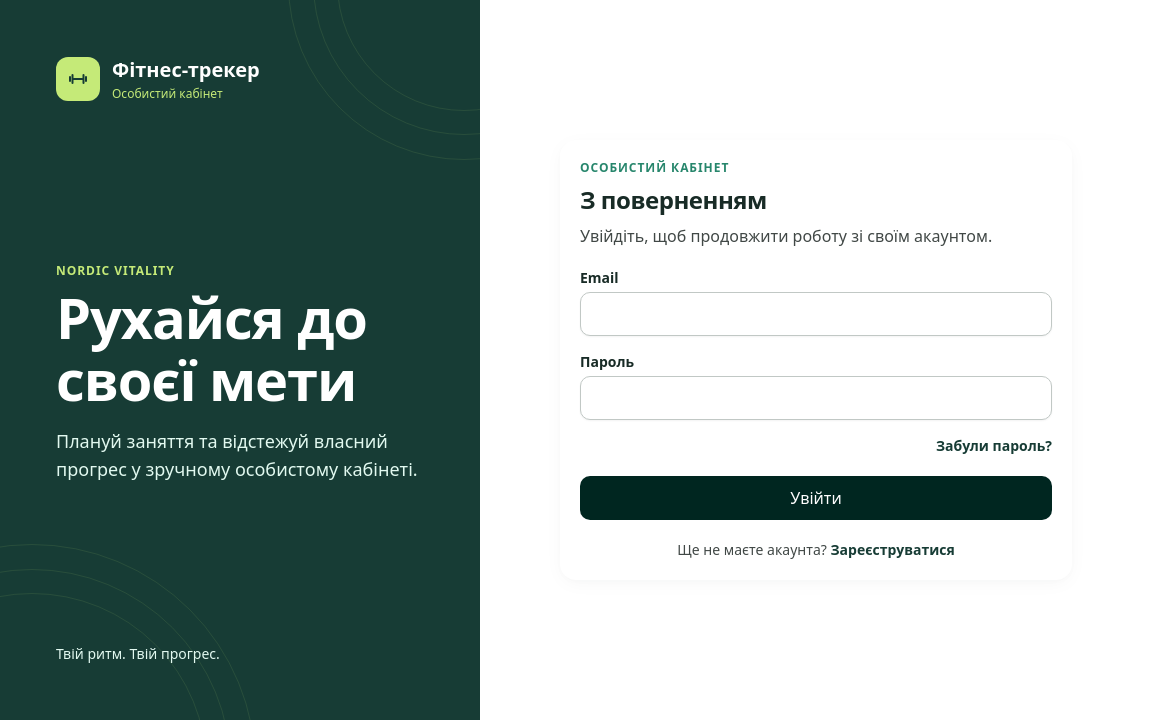
Test: guest sees validation before requests
Expected: the button "Увійти" is shown, [580, 476, 1052, 520]
Click the link "Зареєструватися": (893, 550) [830, 540, 955, 559]
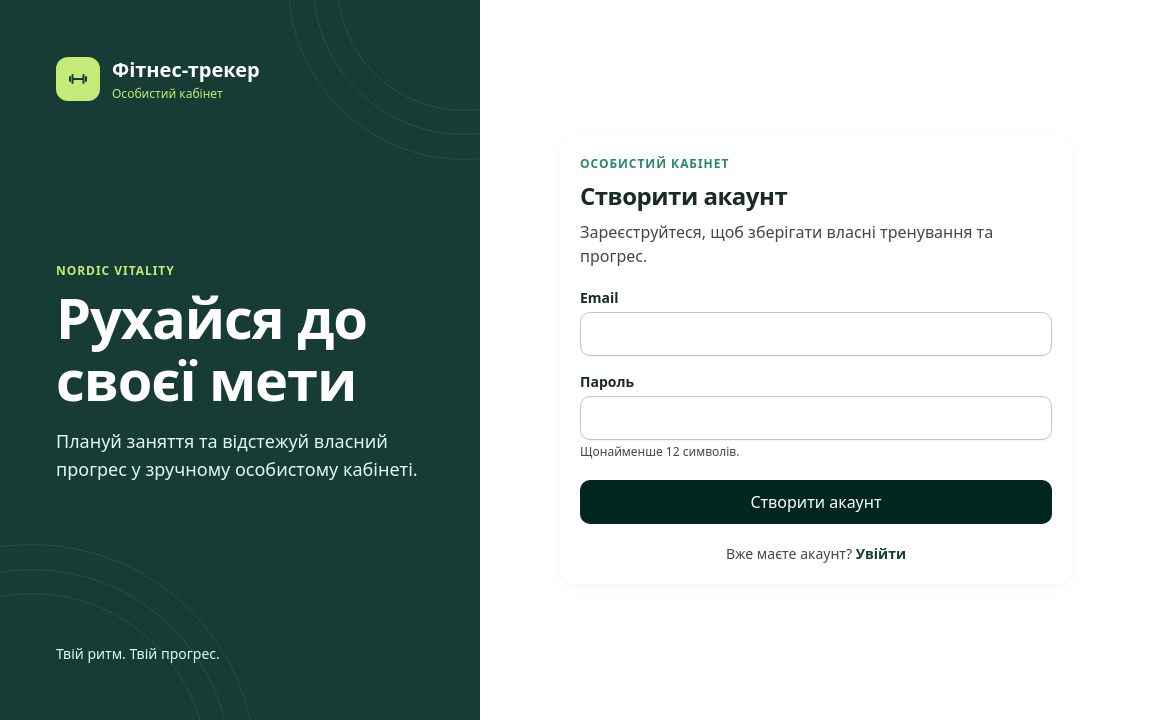
Result: the button "Створити акаунт" is shown at [580, 480, 1052, 524]
In the field labelled "Email": (816, 334) [580, 312, 1052, 356], type "bad"
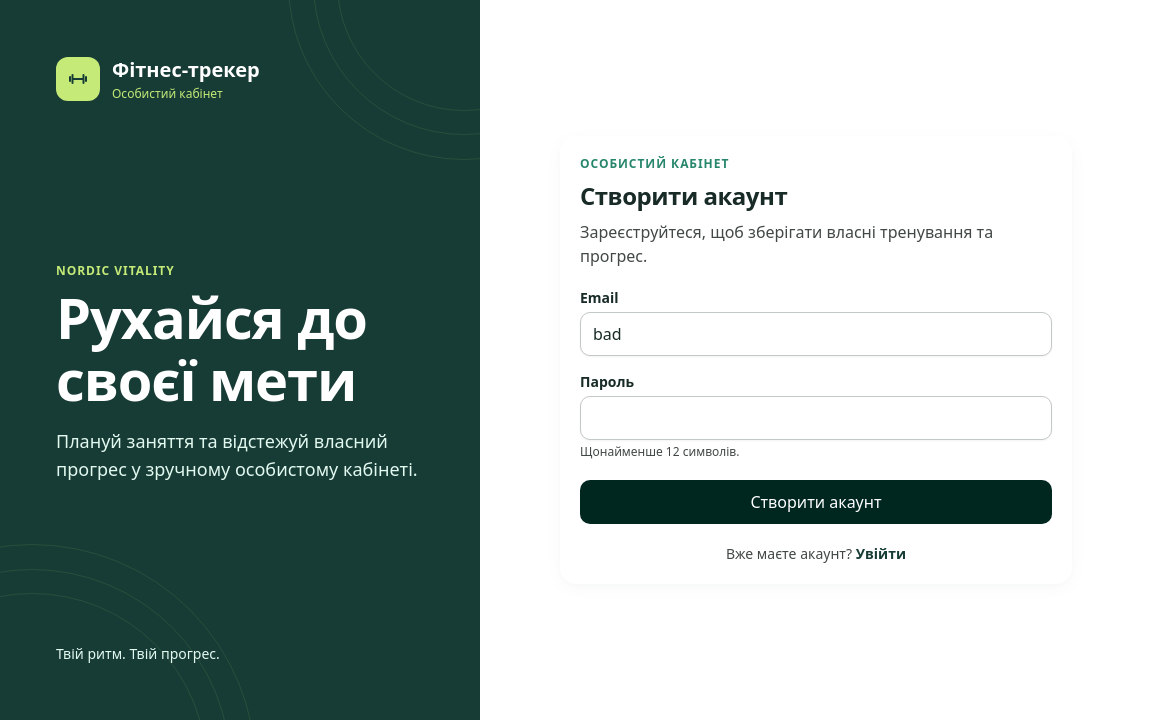
In the password field labelled "Пароль": (816, 418) [580, 396, 1052, 440], type "short"
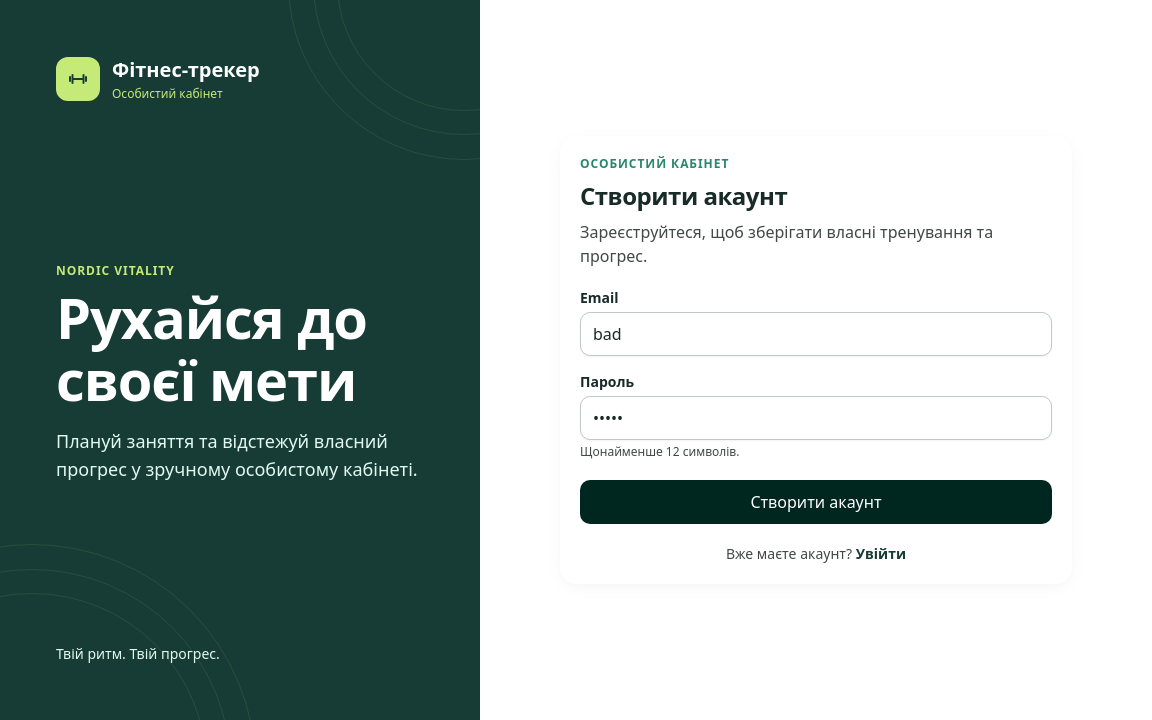
Click the button "Створити акаунт": (816, 502) [580, 480, 1052, 524]
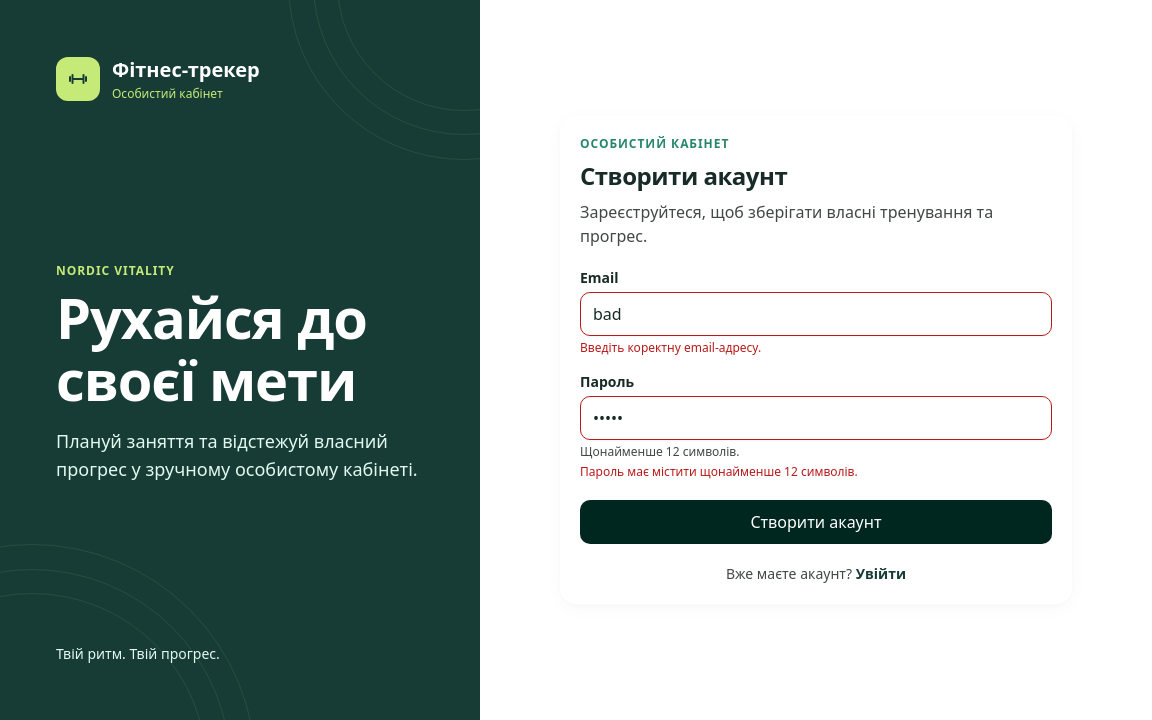
Result: the text "Введіть коректну email-адресу." is shown at [580, 339, 761, 356]
Result: the text "Пароль має містити щонайменше 12 символів." is shown at [580, 463, 858, 480]
